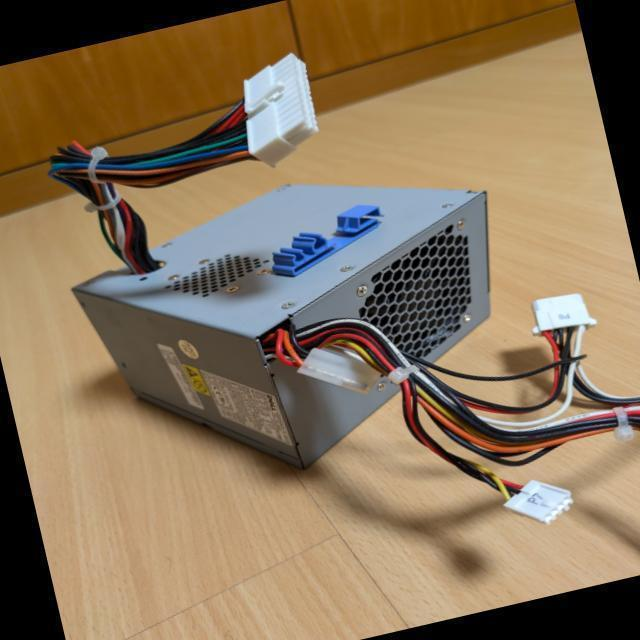PSU: (59, 140, 540, 512)
